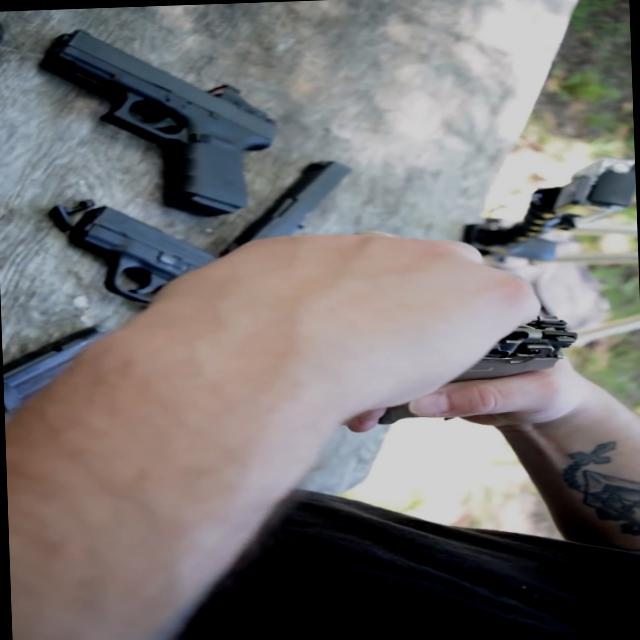handgun: (44, 24, 269, 227), (56, 202, 294, 346)
